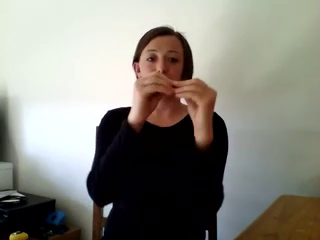B: (131, 69, 219, 122)
